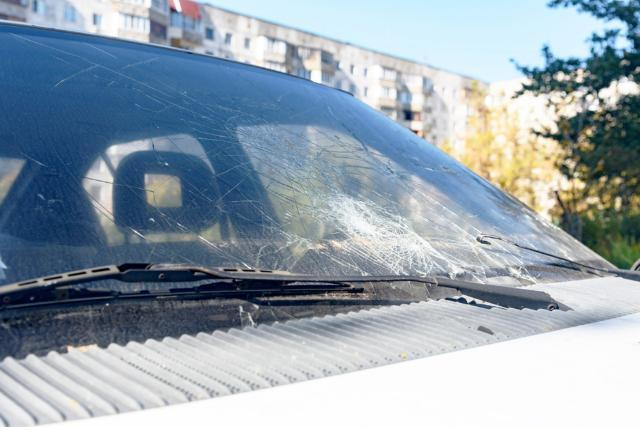glass shatter: (0, 23, 618, 359)
